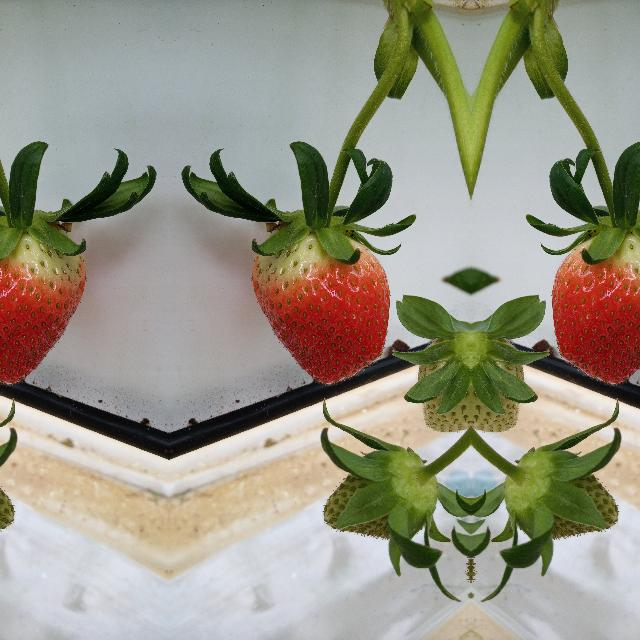Health_100: (250, 231, 390, 387), (550, 231, 640, 387), (0, 231, 86, 387)
Health_25: (500, 446, 626, 542), (316, 446, 440, 542), (471, 316, 522, 432), (420, 316, 470, 432)
